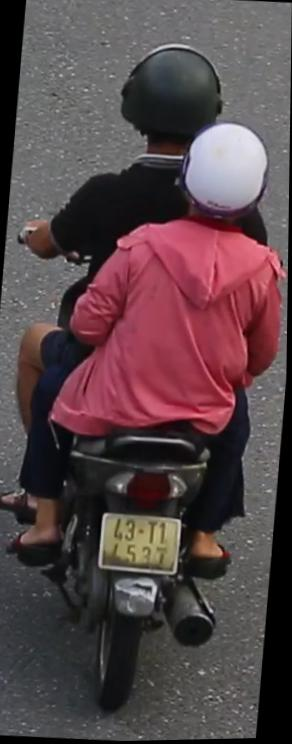LP: (95, 508, 189, 582)
helmet: (110, 32, 230, 180), (175, 113, 277, 242)
